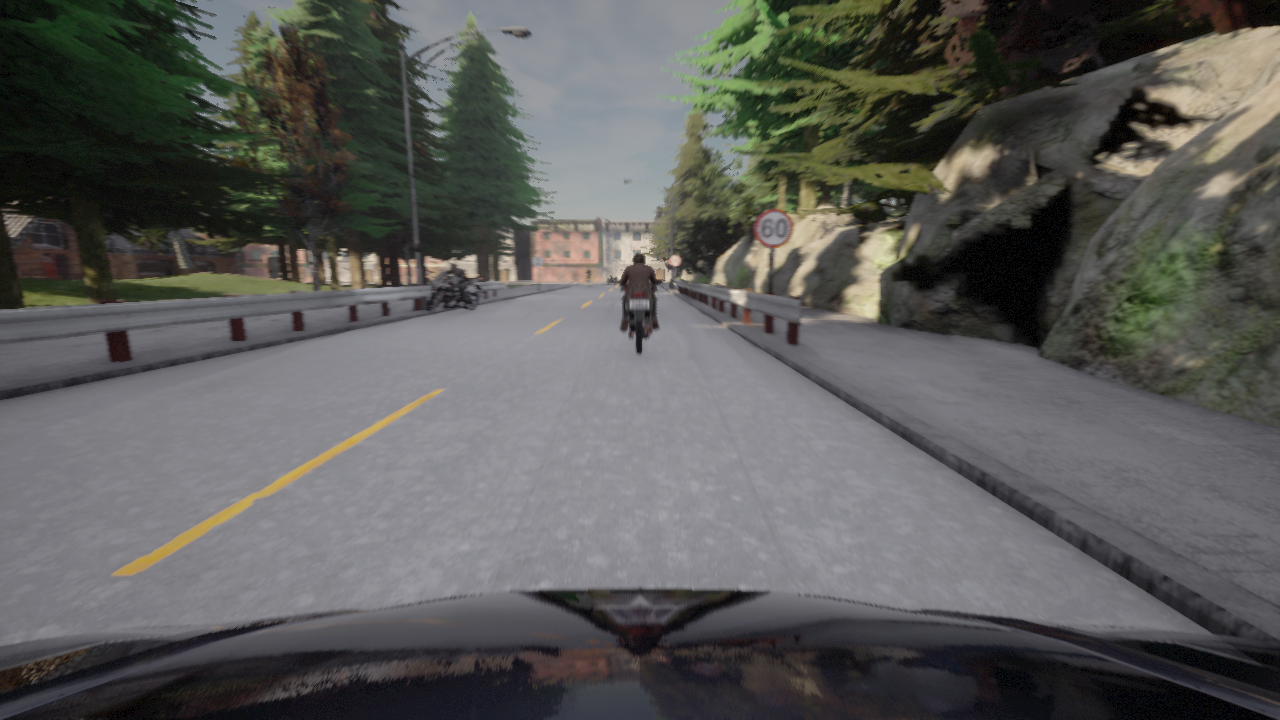cyclist: (0, 588, 1279, 719), (616, 279, 661, 354), (426, 271, 483, 311), (584, 274, 592, 288), (605, 276, 616, 283)
